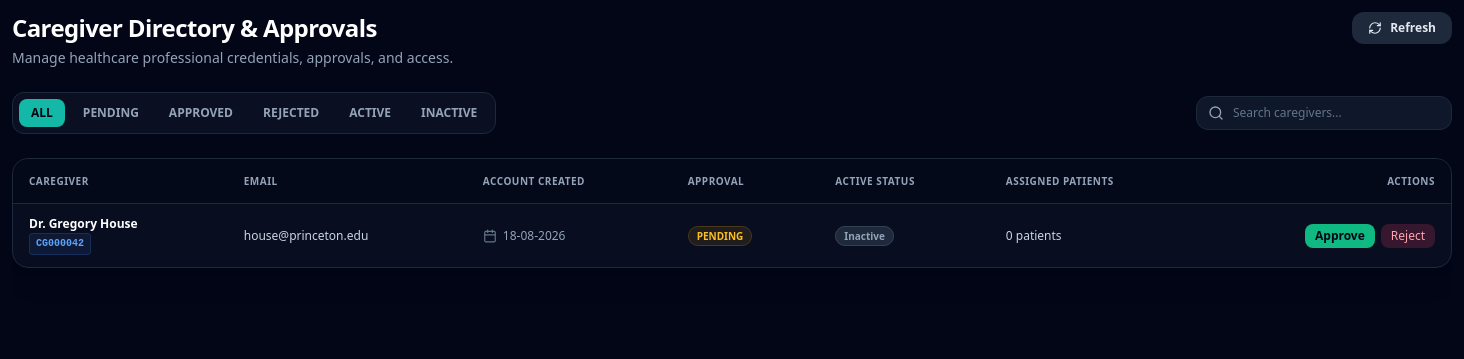
CaregiverManagement Component › approves caregiver and displays email notification message
Click the button "Approve": click(1340, 236) 1305,224 -> 1375,248
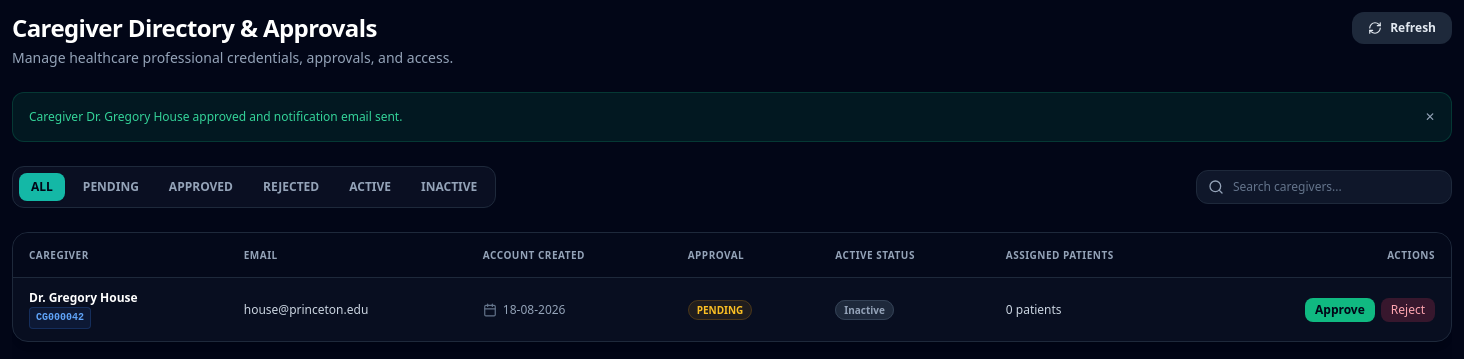
expect the text "Caregiver Dr. Gregory House approved and notification email sent." is shown: met, box 29,109 -> 402,125
